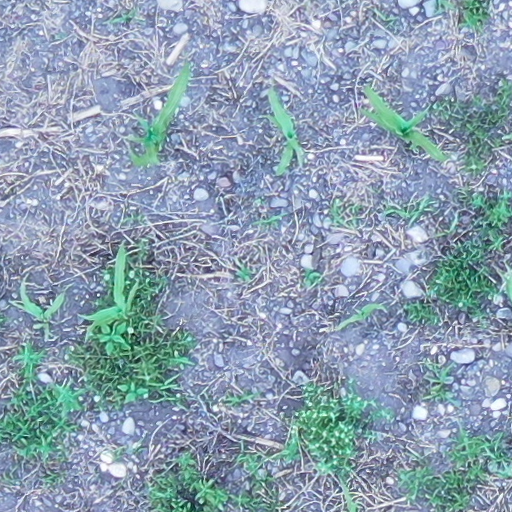planta: (122, 59, 190, 165), (358, 86, 447, 161), (76, 241, 140, 343), (262, 85, 304, 177), (9, 273, 64, 323), (334, 302, 388, 331)
